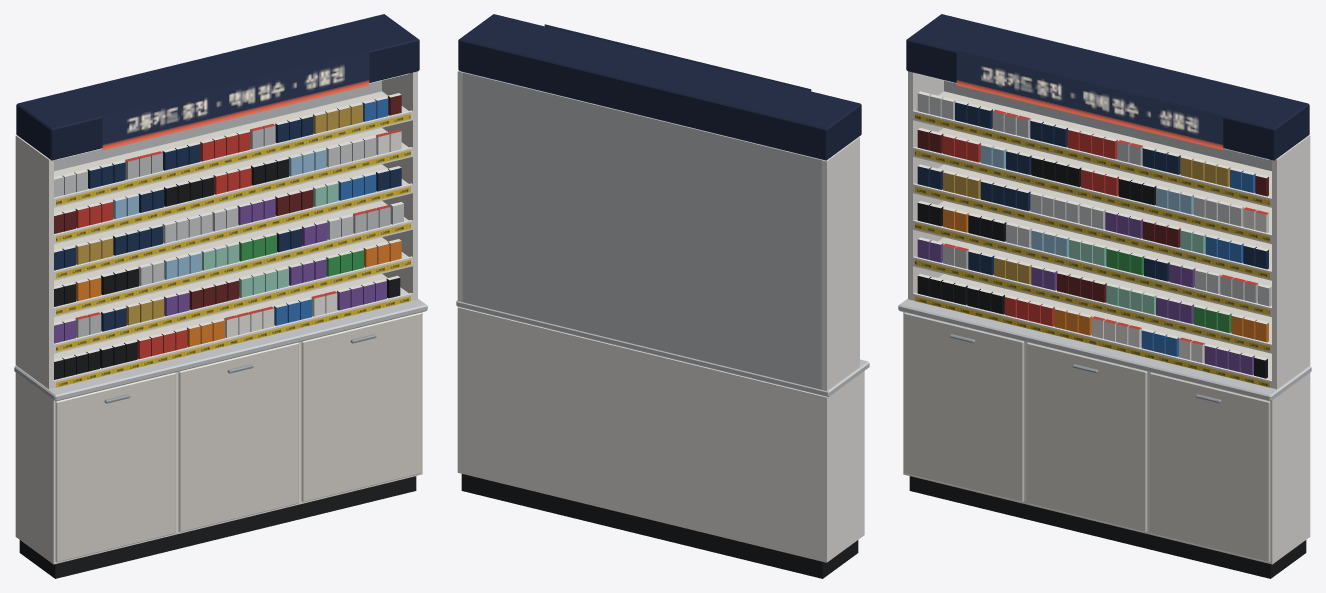
Rendered from SC_Fix_BackCounter_Rack.gltf.
3 renders of one model, left to right at view 1: azimuth 30°, elevation 25°; view 2: azimuth 150°, elevation 25°; view 3: azimuth 330°, elevation 25°, orthographic.
Visible parts, largest first — view 1: SC_Fix_BackCounter_Rack; view 2: SC_Fix_BackCounter_Rack; view 3: SC_Fix_BackCounter_Rack.
Part boxes in pixels (x1,y1,x2,y2): SC_Fix_BackCounter_Rack: [14, 14, 427, 578]; SC_Fix_BackCounter_Rack: [456, 14, 869, 578]; SC_Fix_BackCounter_Rack: [898, 14, 1311, 578].
Bounding box in the file's own units: 1.82 × 2.11 × 0.35.
4 materials, 4 textured.
